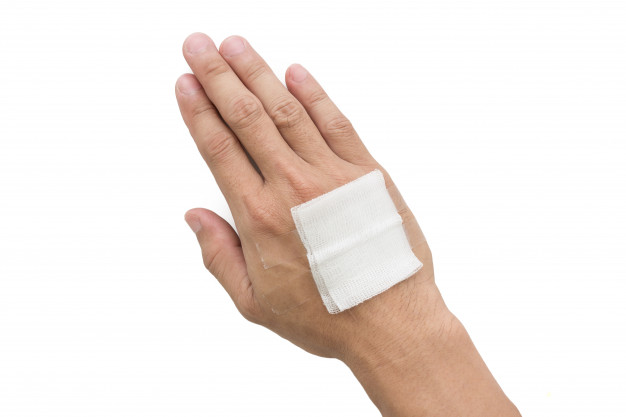injured: (225, 155, 440, 320)
